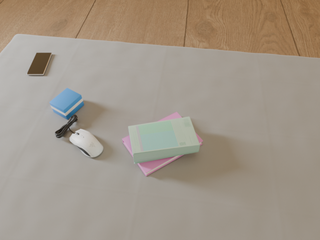book: (122, 112, 203, 176), (128, 117, 200, 164)
box: (50, 88, 84, 120)
mouse: (70, 129, 103, 157)
phone: (27, 53, 52, 75)
